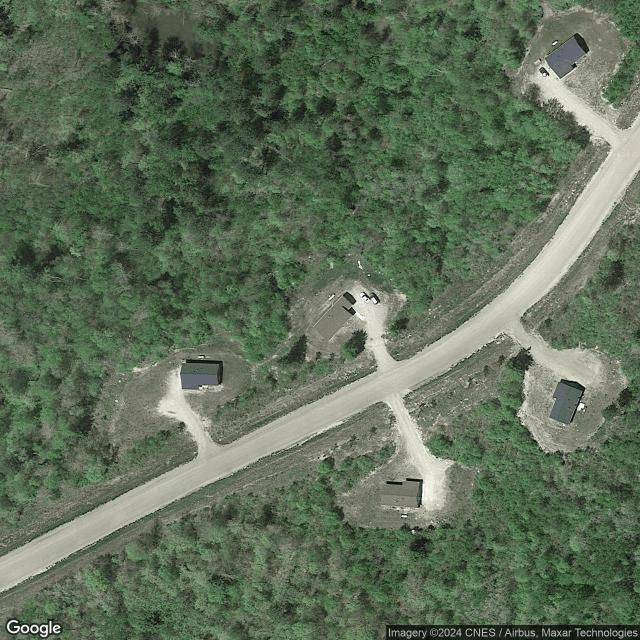Propane: (327, 293, 336, 302), (551, 39, 559, 47), (400, 514, 409, 519), (196, 355, 205, 359)
